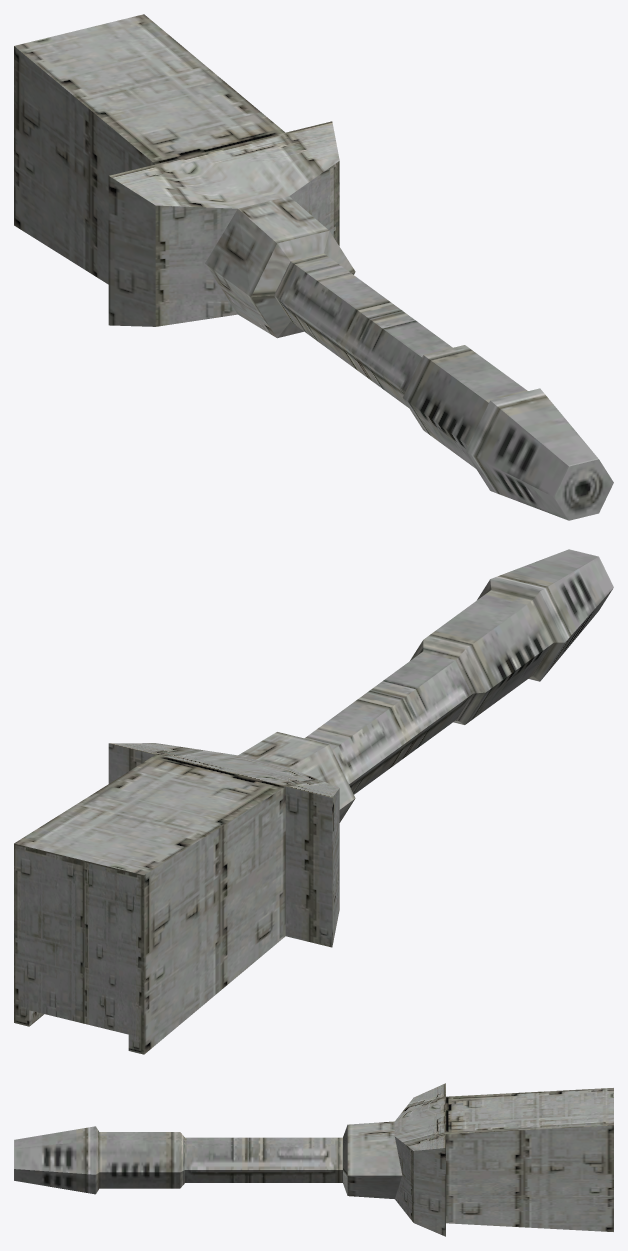
The model's file is ins_all_def_turret_lg_s01_barrel_l0.fbx.
3 views of the same model, one above another, from view 1: azimuth 30°, elevation 25°; view 2: azimuth 150°, elevation 25°; view 3: azimuth 270°, elevation 25° (orthographic). The views are drawn at different scales.
Parts seen in each view (by area): view 1: mesh_node; view 2: mesh_node; view 3: mesh_node.
Boxes of the visible parts, x1,y1,x2,y2 form: mesh_node: (14, 14, 613, 520); mesh_node: (14, 549, 613, 1054); mesh_node: (14, 1083, 613, 1236).
Size of the model in its own units: 0.8954 by 0.687 by 3.5.
